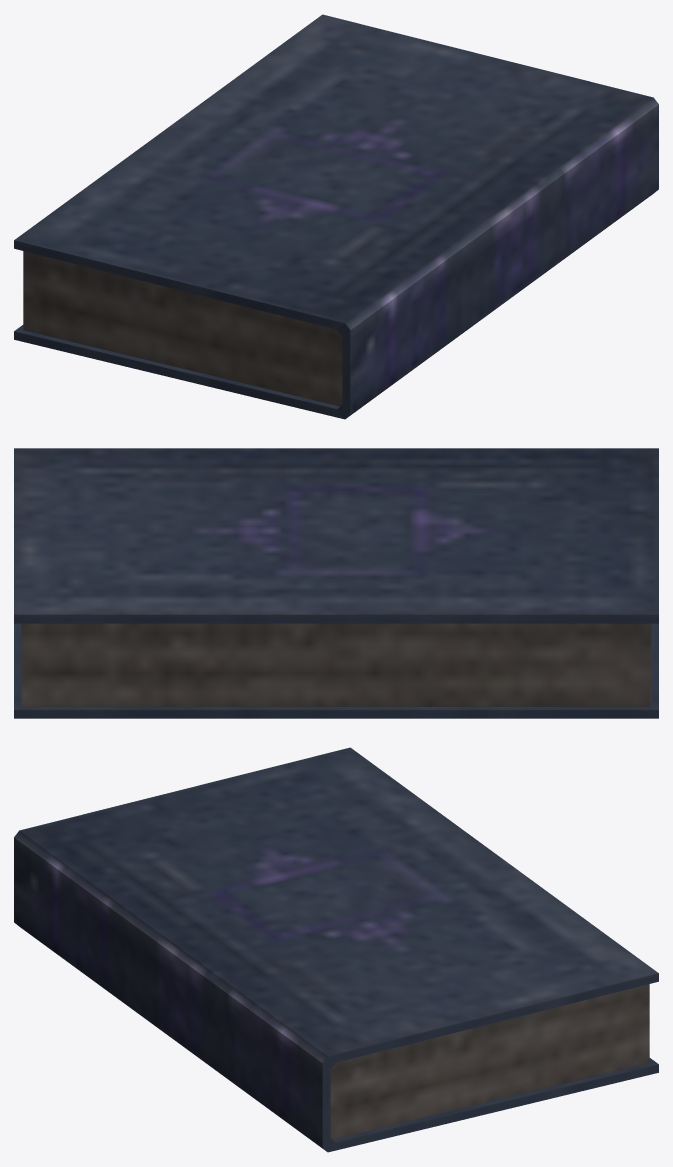
3 renders of one model, top to bottom at view 1: azimuth 30°, elevation 25°; view 2: azimuth 150°, elevation 25°; view 3: azimuth 270°, elevation 25°, orthographic. The views are drawn at different scales.
Parts seen in each view (by area): view 1: book_2; view 2: book_2; view 3: book_2.
Part boxes in pixels (x1,y1,x2,y2): book_2: (14, 14, 658, 419); book_2: (14, 448, 658, 718); book_2: (14, 747, 658, 1152).
Size of the model in its own units: 0.3188 by 0.048 by 0.2822.
1 material, 1 textured.
